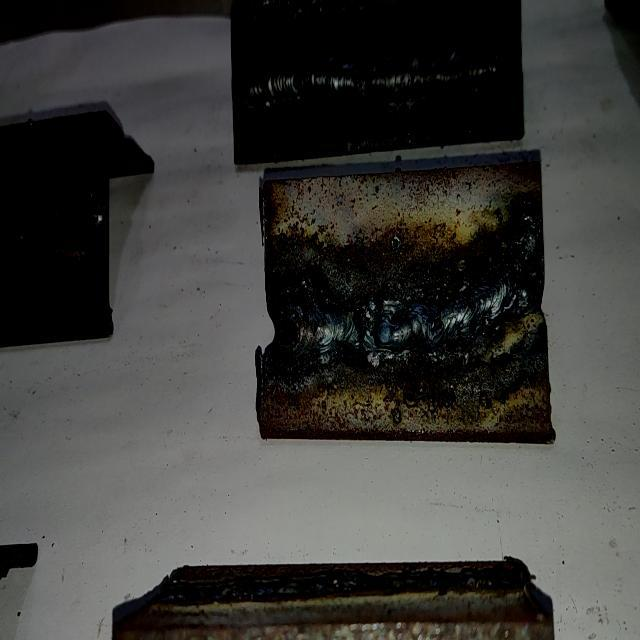Defect: (498, 205, 544, 315), (345, 270, 390, 370)
Welding Line: (276, 235, 542, 355), (0, 190, 101, 244)
Workpiece: (259, 162, 546, 446), (227, 0, 525, 169), (0, 110, 112, 354)
